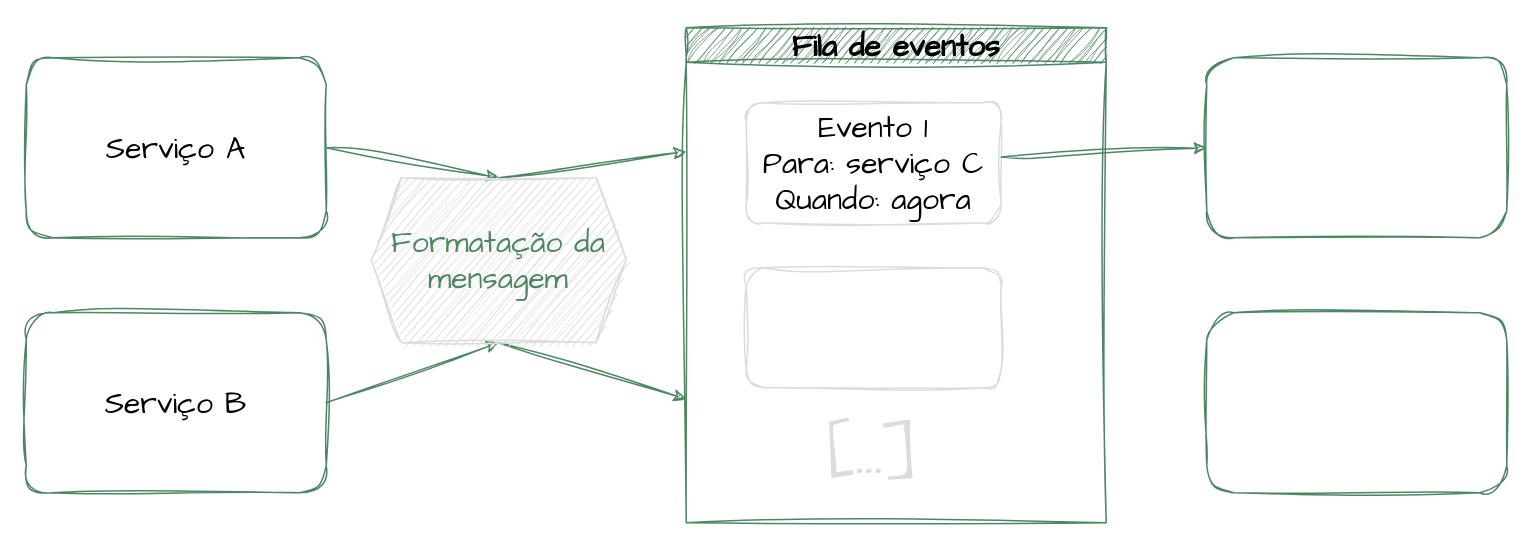
Image size: 1533x549. Some labels were removed from this diagram. Each missing label, with the centre of its shape:
Evento 2 Para: serviço D Quando: após 10m: point (873, 327)
Serviço C: point (1356, 147)
Serviço D: point (1356, 402)
